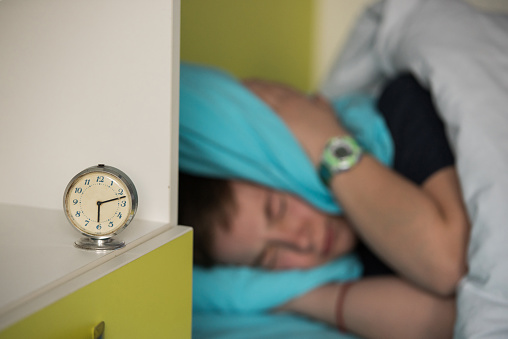deitado: (101, 96, 489, 339)
